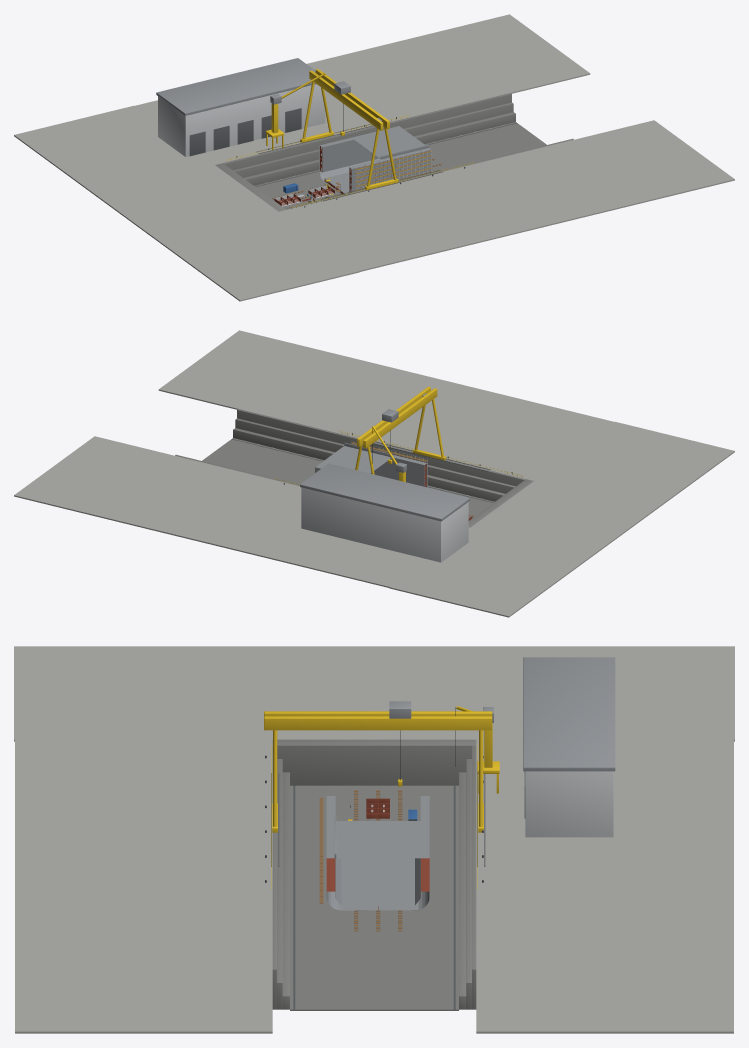
Rendered from ship-block.glb.
The picture shows the model from 3 angles, top to bottom: view 1: azimuth 30°, elevation 25°; view 2: azimuth 150°, elevation 25°; view 3: azimuth 270°, elevation 25°; orthographic projection. The views are drawn at different scales.
Visible parts, largest first — view 1: background:ship-block; view 2: background:ship-block; view 3: background:ship-block.
Part boxes in pixels (x1=…): background:ship-block: x1=14, y1=14, x2=734, y2=301; background:ship-block: x1=14, y1=330, x2=734, y2=617; background:ship-block: x1=14, y1=646, x2=734, y2=1033.
Bounding box in the file's own units: 248 × 47 × 196.
